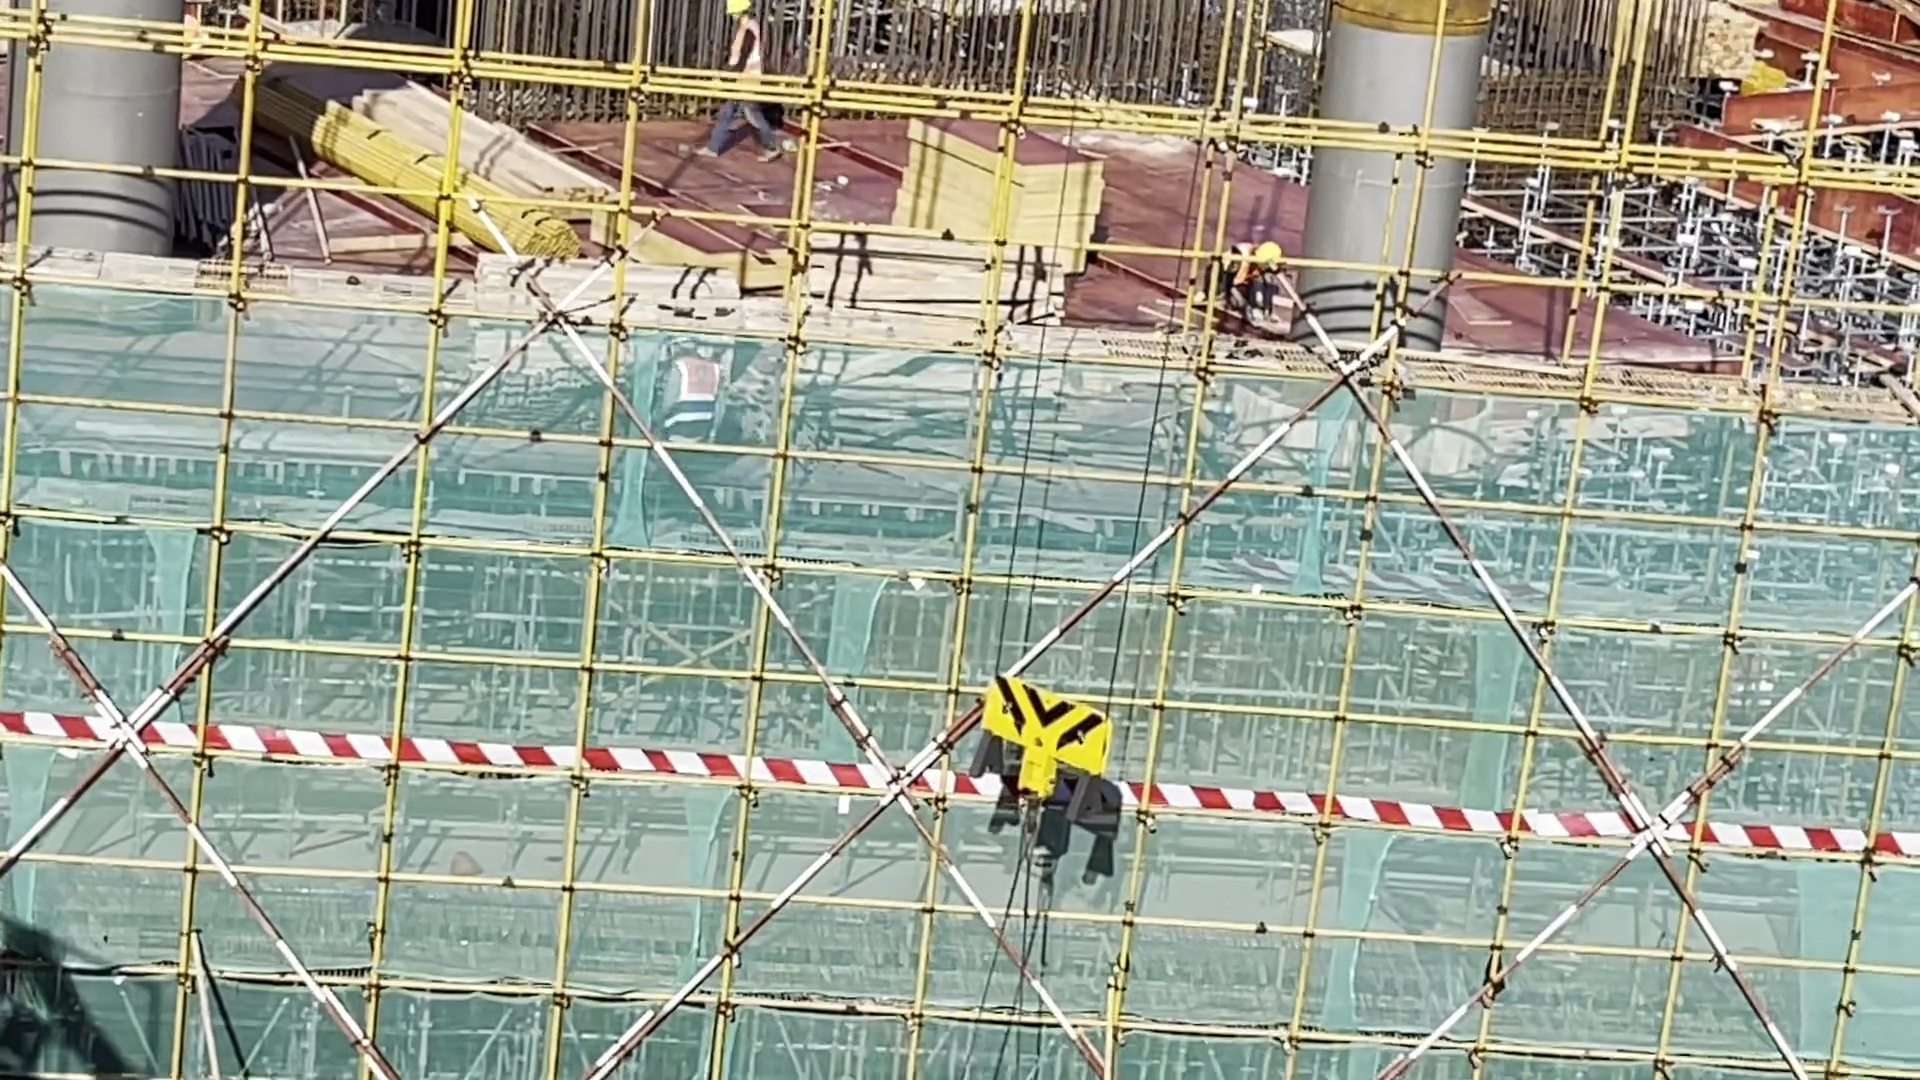board: (883, 114, 1100, 266)
hook: (986, 673, 1111, 811)
person: (676, 1, 790, 162), (1206, 229, 1288, 330)
vest: (726, 23, 763, 88)
wood: (293, 57, 619, 265)
